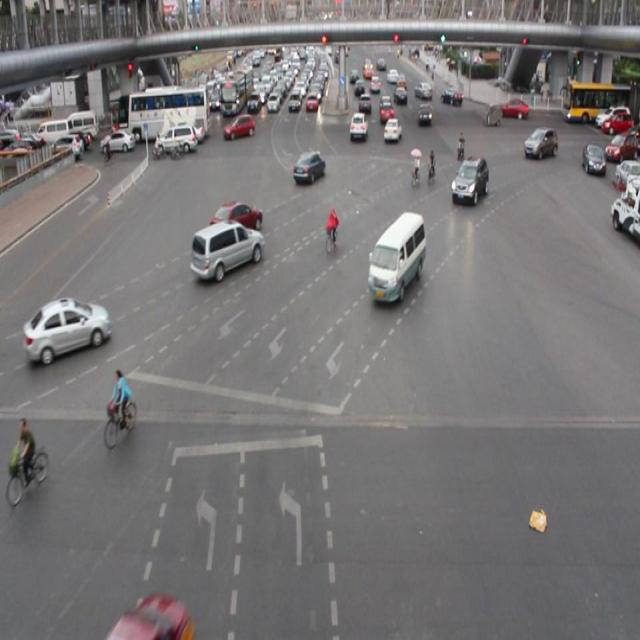car: (24, 295, 111, 362), (210, 200, 263, 239), (450, 155, 489, 205), (522, 126, 558, 162), (292, 151, 326, 187)
truck: (367, 210, 425, 307), (190, 220, 264, 278)
